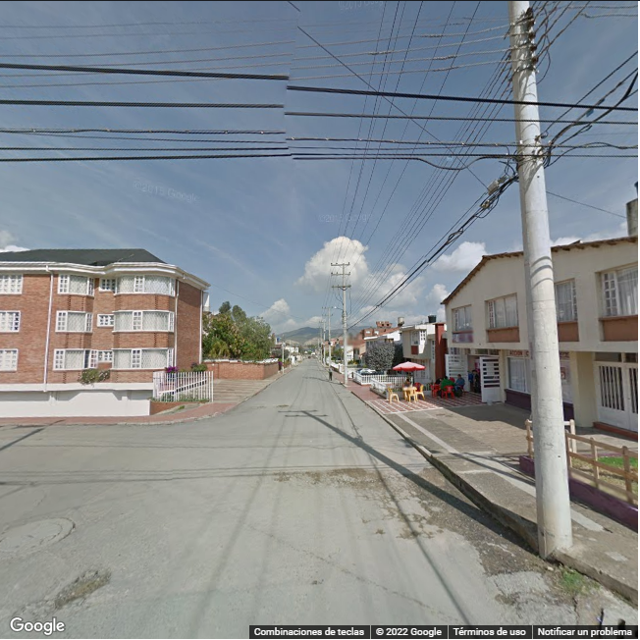D00: (408, 509, 441, 539)
D40: (56, 564, 114, 613)
